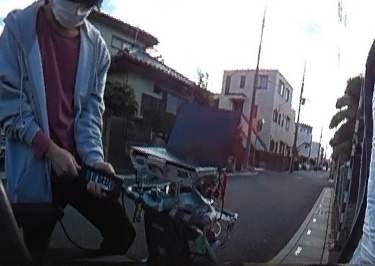person: (2, 0, 128, 255)
